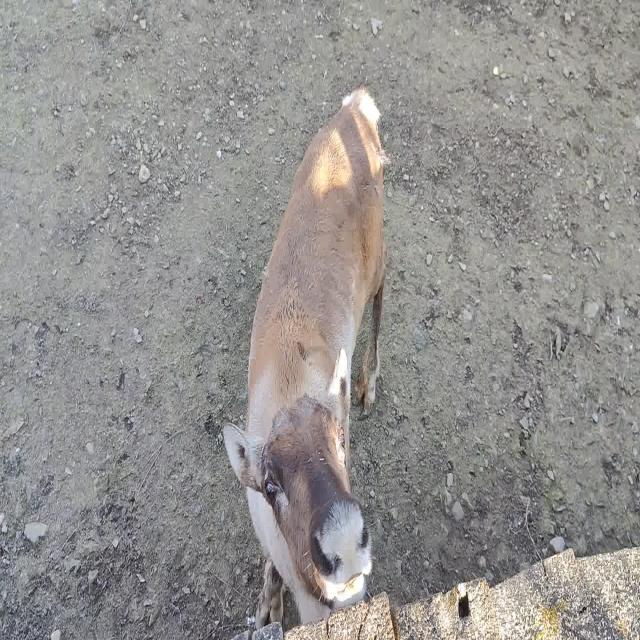deer: (222, 85, 385, 629)
